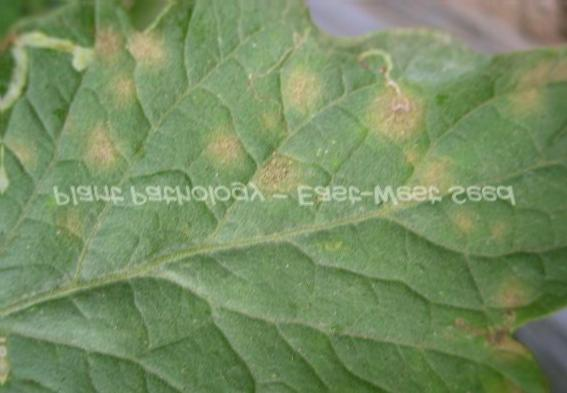Tomato mold leaf: (4, 0, 567, 388)
